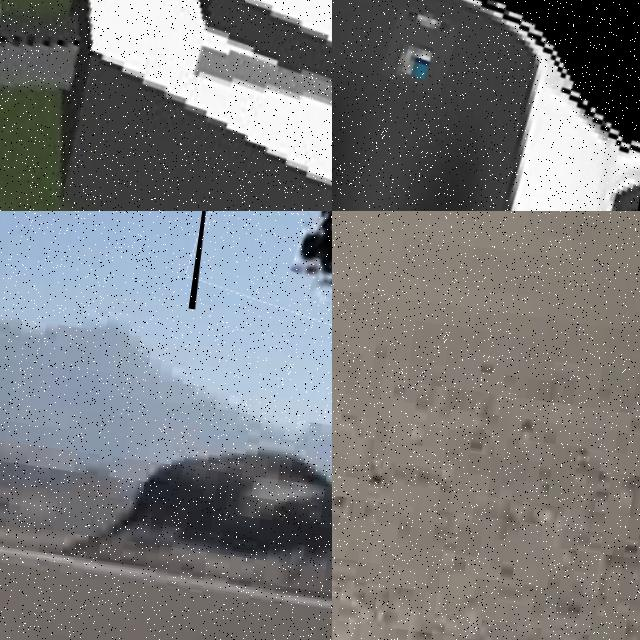0: (188, 211, 332, 343)
drone: (0, 0, 332, 211), (332, 0, 640, 211)
